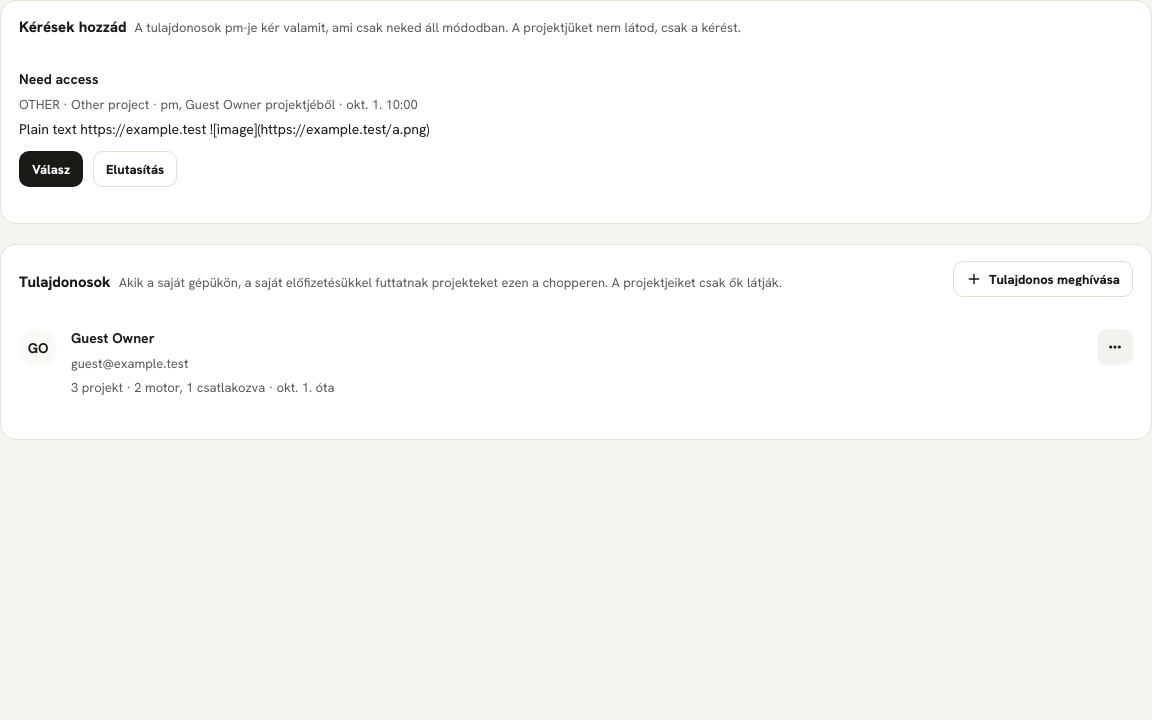
Test: host owner settings › confirms account revocation with cancel focused and moves it into the revoked fold
Click the button named "Guest Owner – műveletek".
click(1115, 347)  # box [1097,329,1133,365]
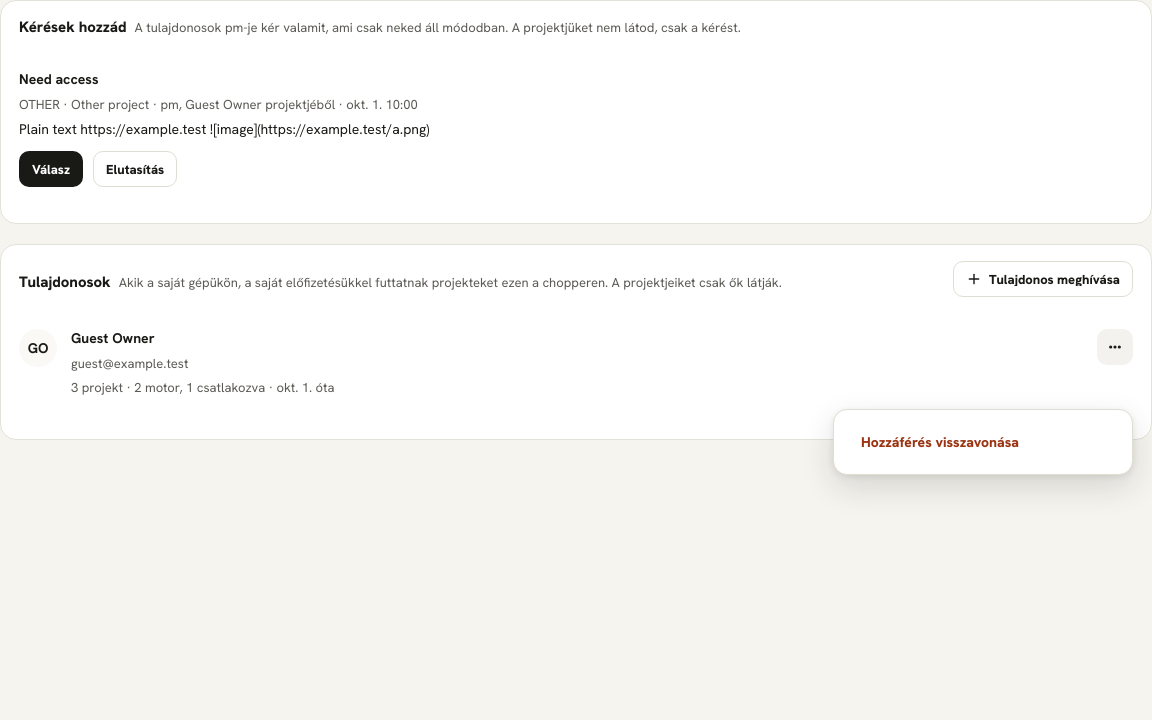
Click the button "Hozzáférés visszavonása".
click(983, 442)  # box [846,422,1120,462]
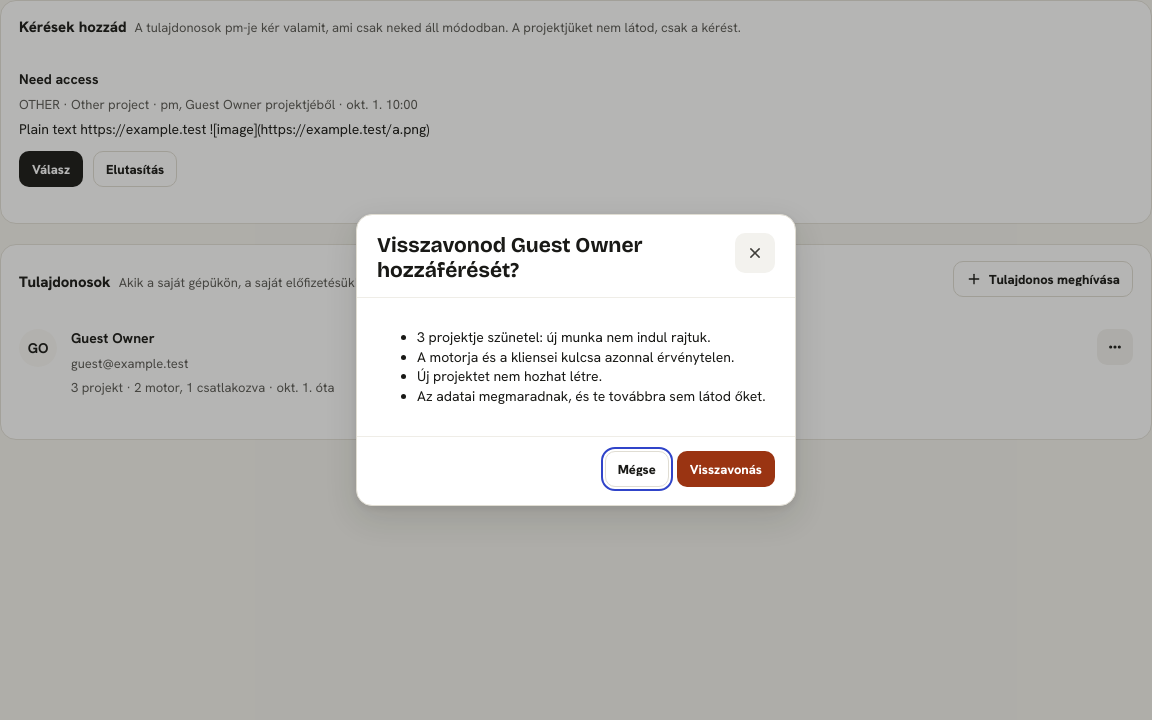
Click the button "Visszavonás".
click(726, 469)  # box [677,451,775,487]
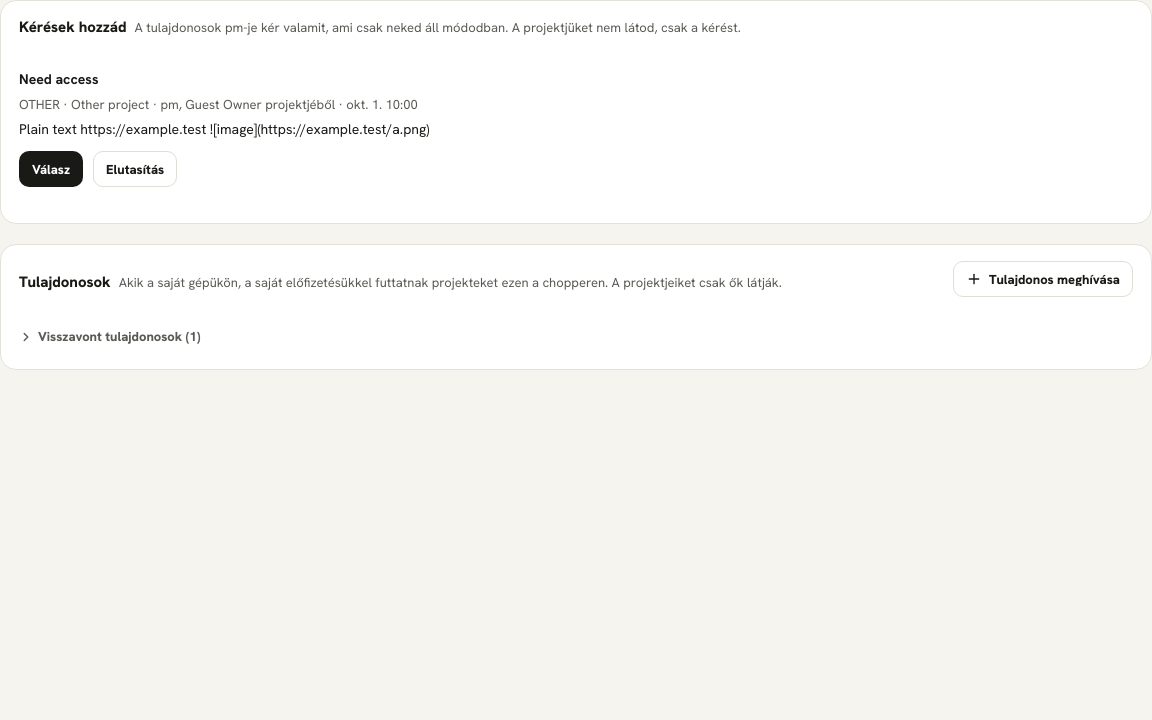
Now the dialog is gone
